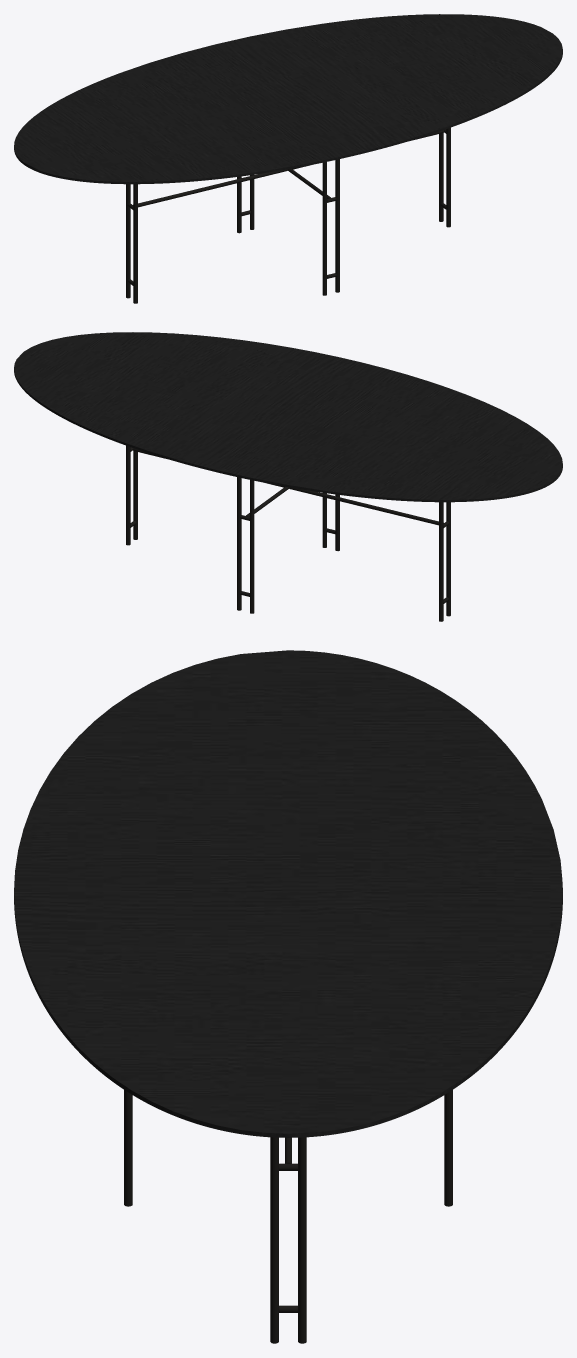
The model's file is Meja_Oval.fbx.
3 renders of one model, top to bottom at view 1: azimuth 30°, elevation 25°; view 2: azimuth 150°, elevation 25°; view 3: azimuth 270°, elevation 25°, orthographic. The views are drawn at different scales.
Visible parts, largest first — view 1: MESA_JANTA; view 2: MESA_JANTA; view 3: MESA_JANTA.
Part boxes in pixels (x1,y1,x2,y2): MESA_JANTA: (14,14,562,303); MESA_JANTA: (14,332,562,621); MESA_JANTA: (14,650,562,1343).
Size of the model in its own units: 250 by 74 by 120.
Materials: 2 (1 with a texture image).
